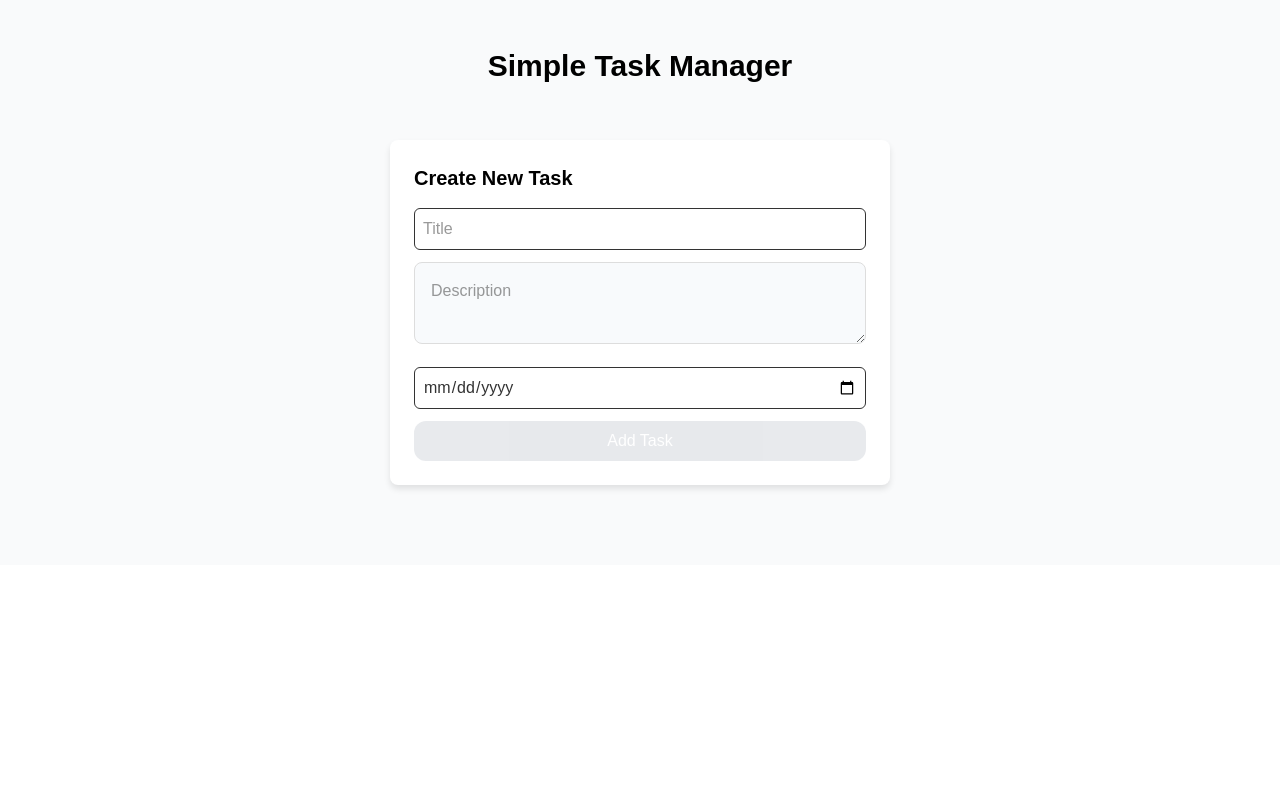
Scenario: Simple Task Manager › should allow a user to add a new task
Fill out the form
Type "Test Task" into the field with placeholder "Title" at coordinates (640, 229), box [414,208,866,250]
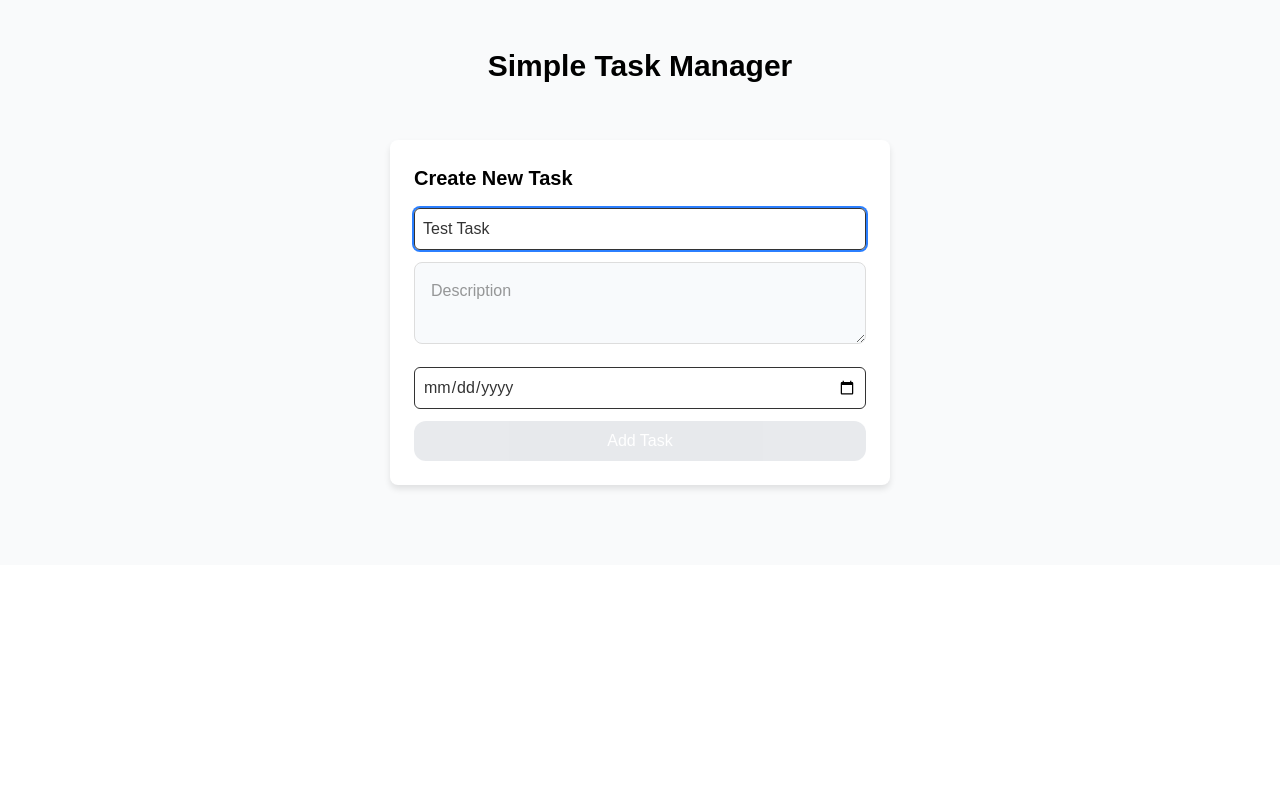
Type "This is a test task description" into the text box with placeholder "Description" at coordinates (640, 303), box [414,262,866,344]
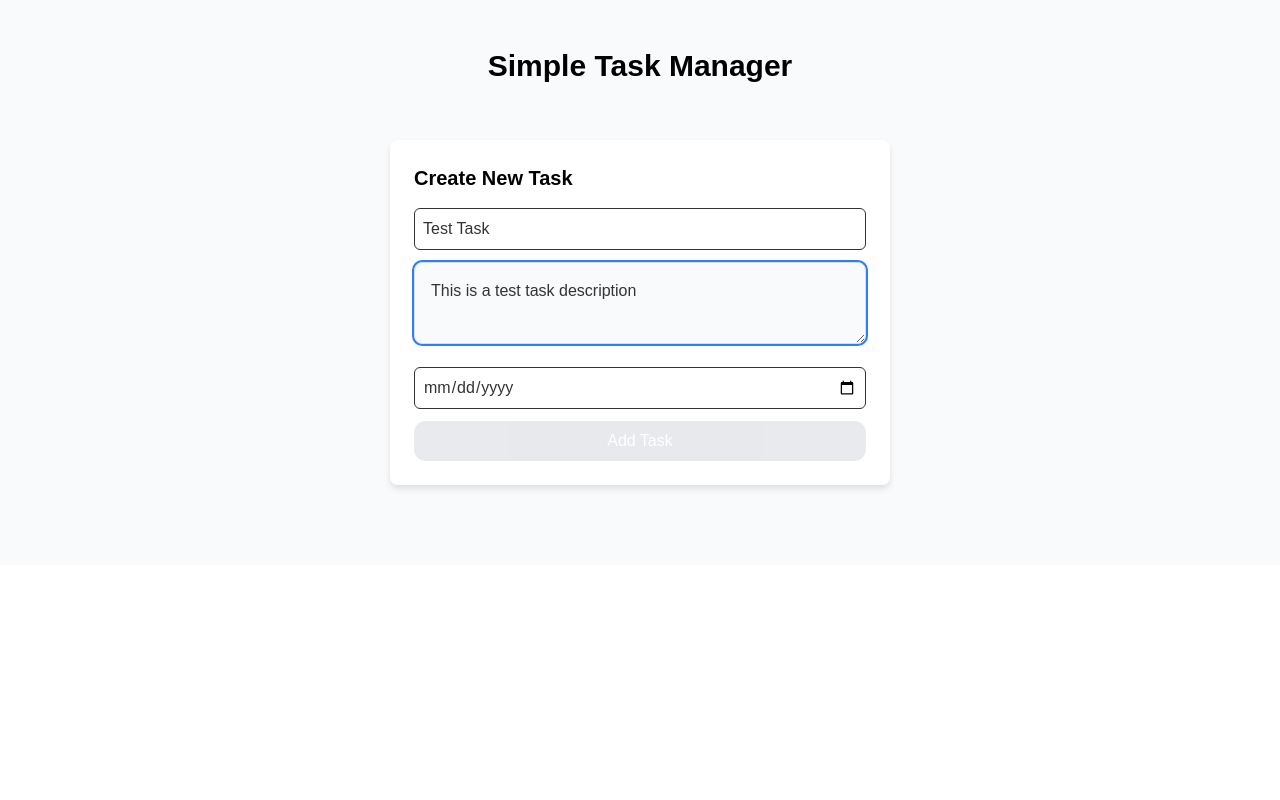
Type "2025-12-25" into the date field at coordinates (640, 388), box [414,367,866,409]
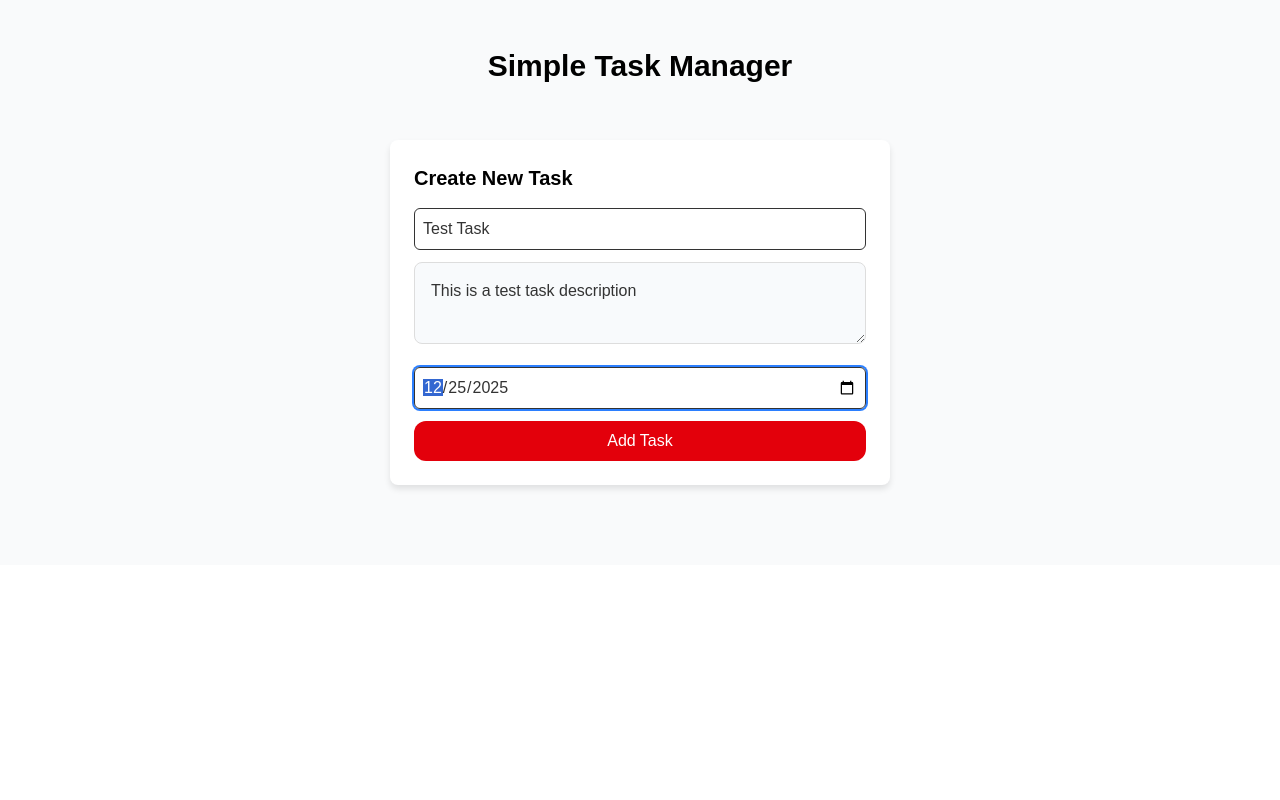
Submit the form
Click the submit button at coordinates (640, 441), box [414,421,866,461]
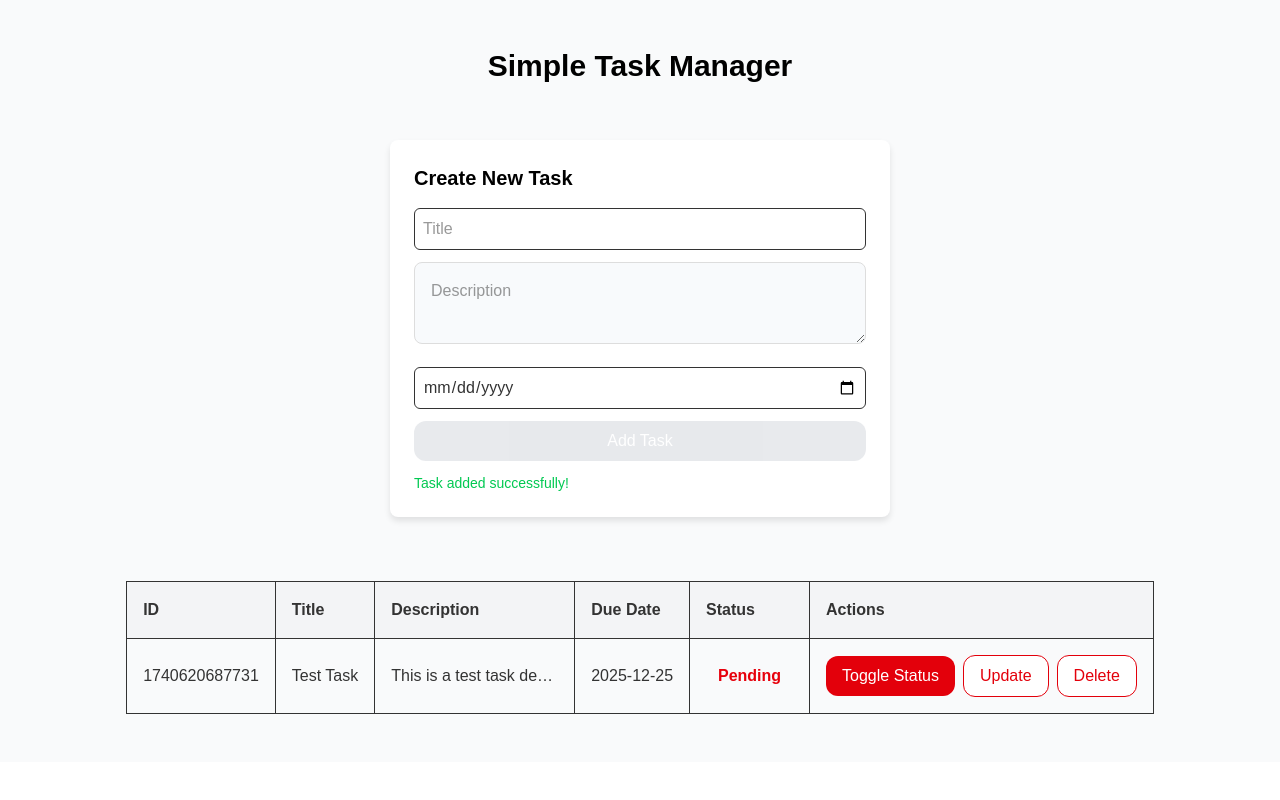
expect the text "Test Task" is shown: met, box [275,638,375,714]
expect the text "This is a test task description" is shown: met, box [375,638,575,714]
expect the text "2025-12-25" is shown: met, box [575,638,690,714]
